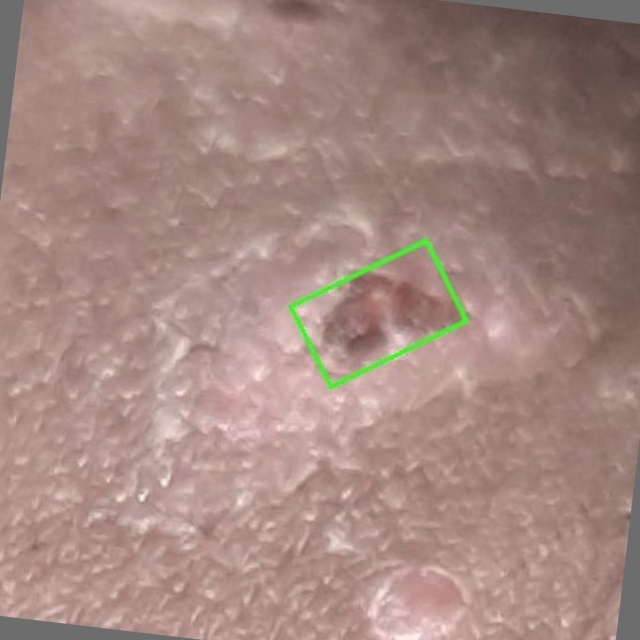Contact Dermatitis: (291, 240, 466, 386)
